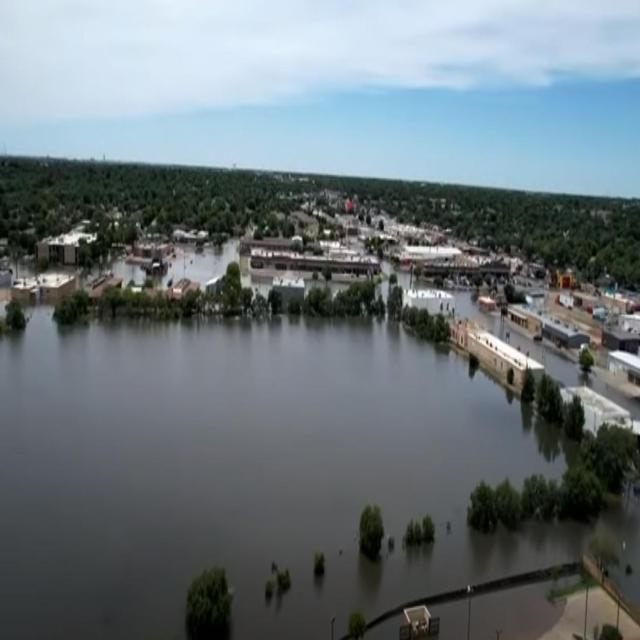flood: (0, 310, 640, 637), (408, 290, 595, 388), (469, 583, 565, 640), (151, 237, 240, 287), (46, 252, 143, 286), (241, 256, 314, 298), (590, 364, 640, 418), (430, 595, 468, 640), (382, 262, 410, 291), (371, 619, 399, 638), (331, 284, 355, 296), (375, 279, 388, 300), (316, 268, 325, 281)
house: (240, 237, 383, 286), (468, 323, 546, 412), (559, 374, 633, 460), (11, 270, 76, 303), (540, 310, 592, 350), (126, 241, 176, 276), (37, 232, 80, 268), (608, 348, 640, 390), (406, 287, 454, 311), (603, 321, 640, 351), (270, 277, 308, 306), (168, 275, 199, 302), (205, 275, 221, 302)
